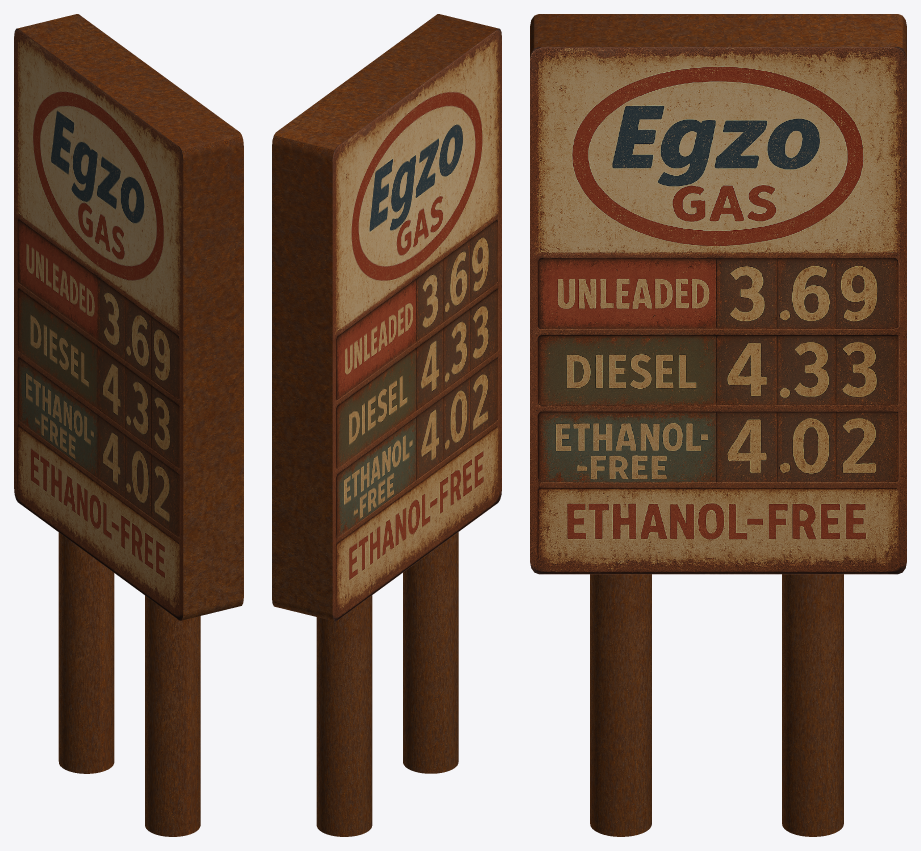
The model's file is RustedFuelPylon.fbx.
3 views of the same model, side by side, from view 1: azimuth 30°, elevation 25°; view 2: azimuth 150°, elevation 25°; view 3: azimuth 270°, elevation 25° (orthographic). The views are drawn at different scales.
Parts seen in each view (by area): view 1: RustedFuelPylon; view 2: RustedFuelPylon; view 3: RustedFuelPylon.
Part boxes in pixels (bbox=[...]): RustedFuelPylon: bbox=[14, 14, 243, 836]; RustedFuelPylon: bbox=[272, 14, 501, 836]; RustedFuelPylon: bbox=[530, 14, 906, 836].
Bounding box in the file's own units: 66.85 × 753 × 324.
2 materials, 2 textured.
